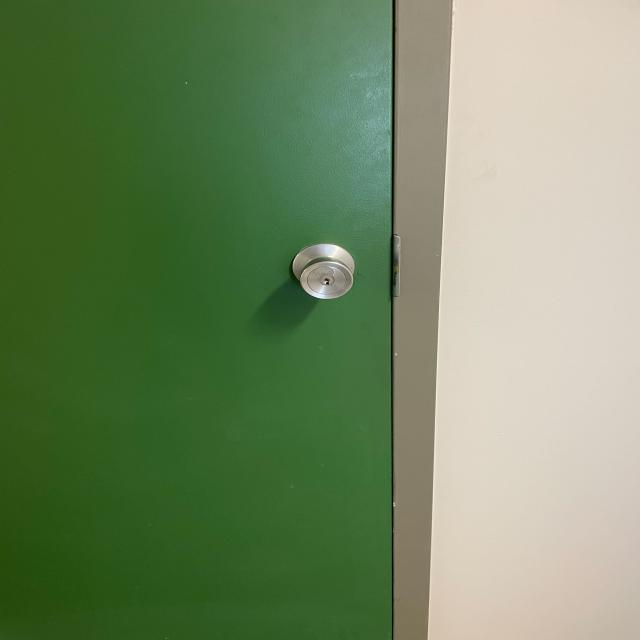door-knob: (292, 244, 355, 299)
